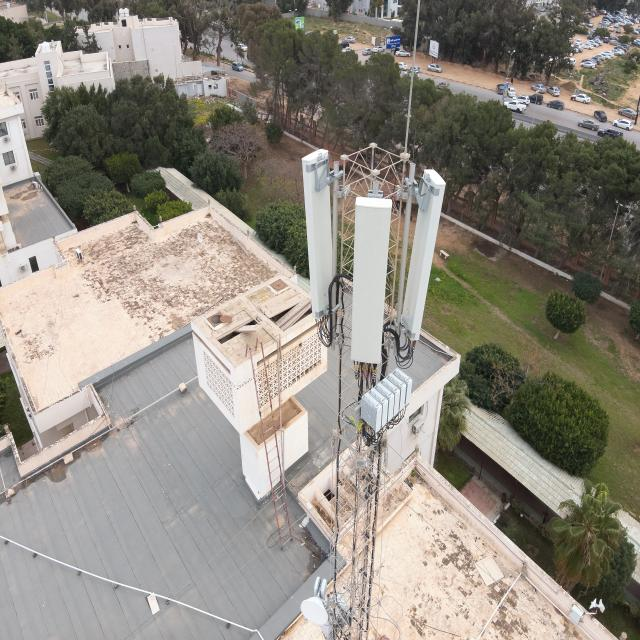antenna: (346, 188, 394, 372), (401, 169, 449, 344), (300, 149, 340, 322)
lighnig-rad: (397, 0, 429, 156)
microware-dish: (298, 563, 329, 621)
power-box: (319, 590, 360, 640)
radio-unit: (354, 368, 422, 438)
